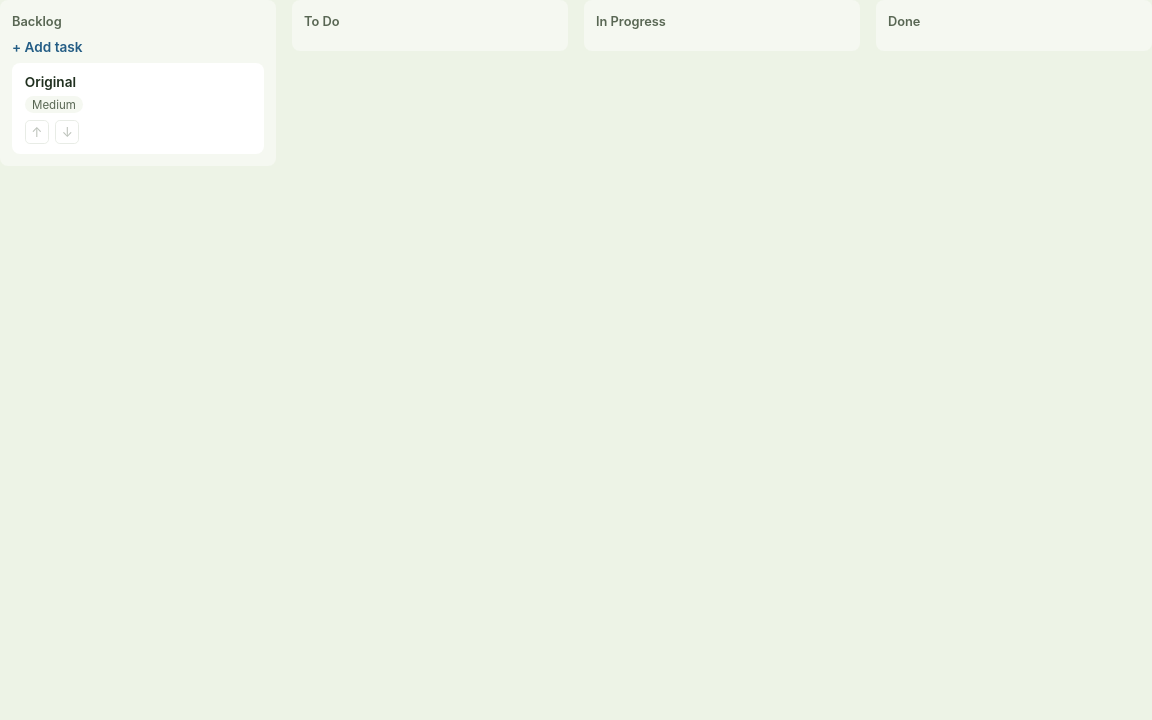
TaskBoard › closes the task detail panel on Escape
The width and height of the screenshot is (1152, 720).
Click the text "Original". click: (50,82)
box: 25,74 -> 76,90
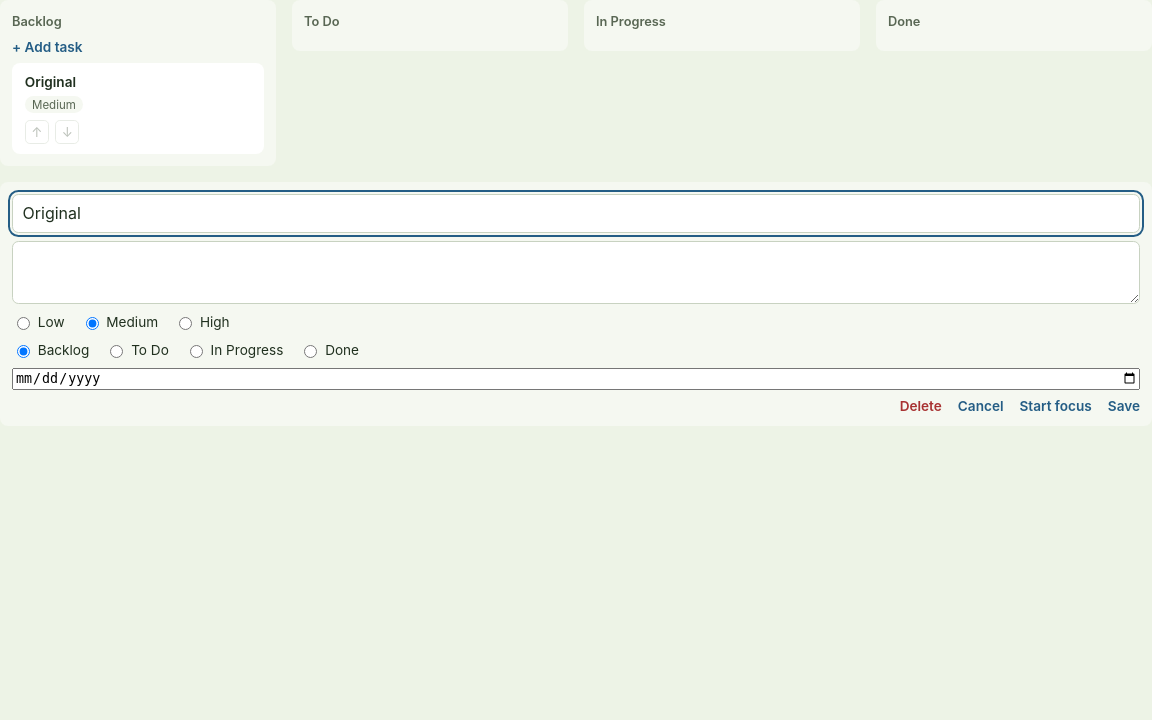
Expected: the dialog is shown
Press Escape in the dialog, box 0,182 -> 1151,426
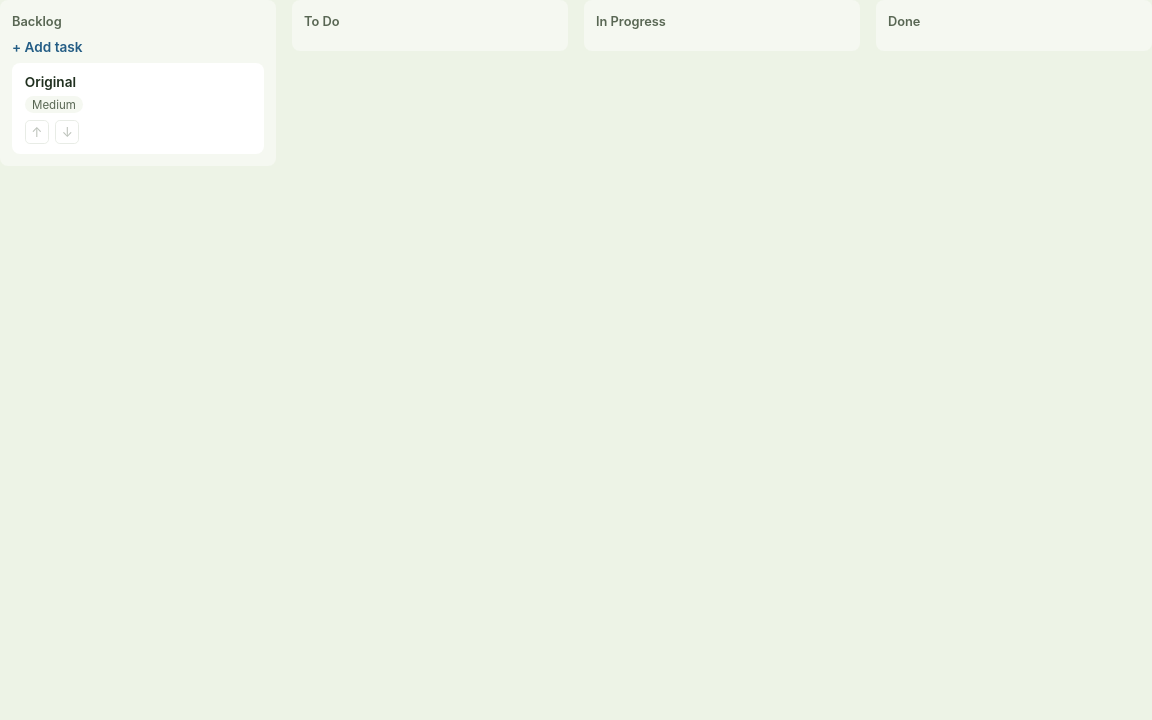
Expected: the dialog is gone
